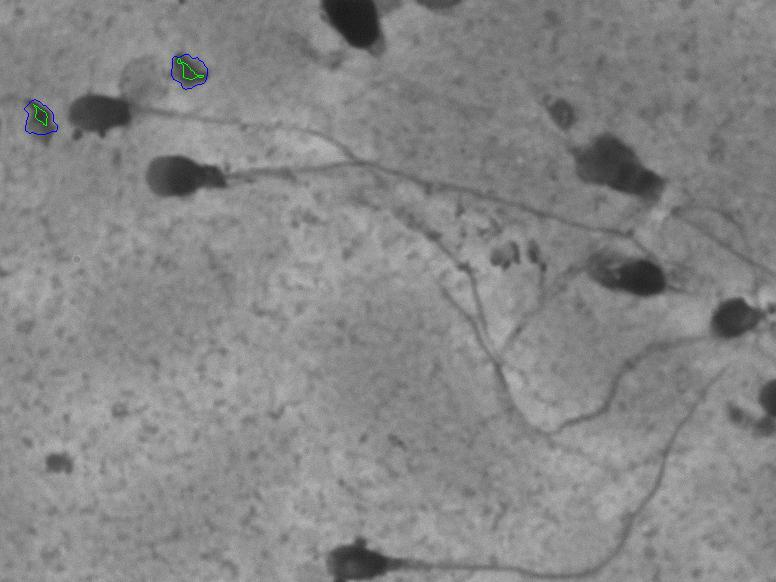Abnormal: (136, 131, 548, 277), (39, 43, 323, 156), (581, 212, 671, 329), (699, 264, 770, 367)
